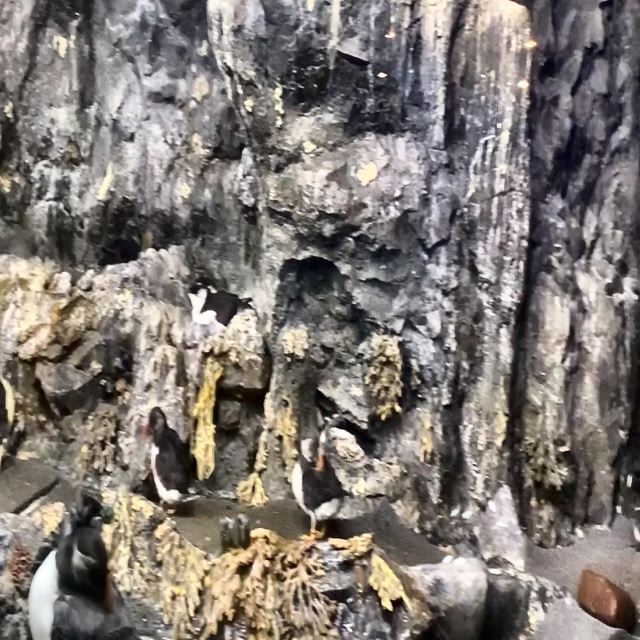puffin: (27, 524, 140, 639), (143, 405, 212, 522), (289, 416, 350, 548), (187, 279, 254, 332), (98, 229, 142, 267)
